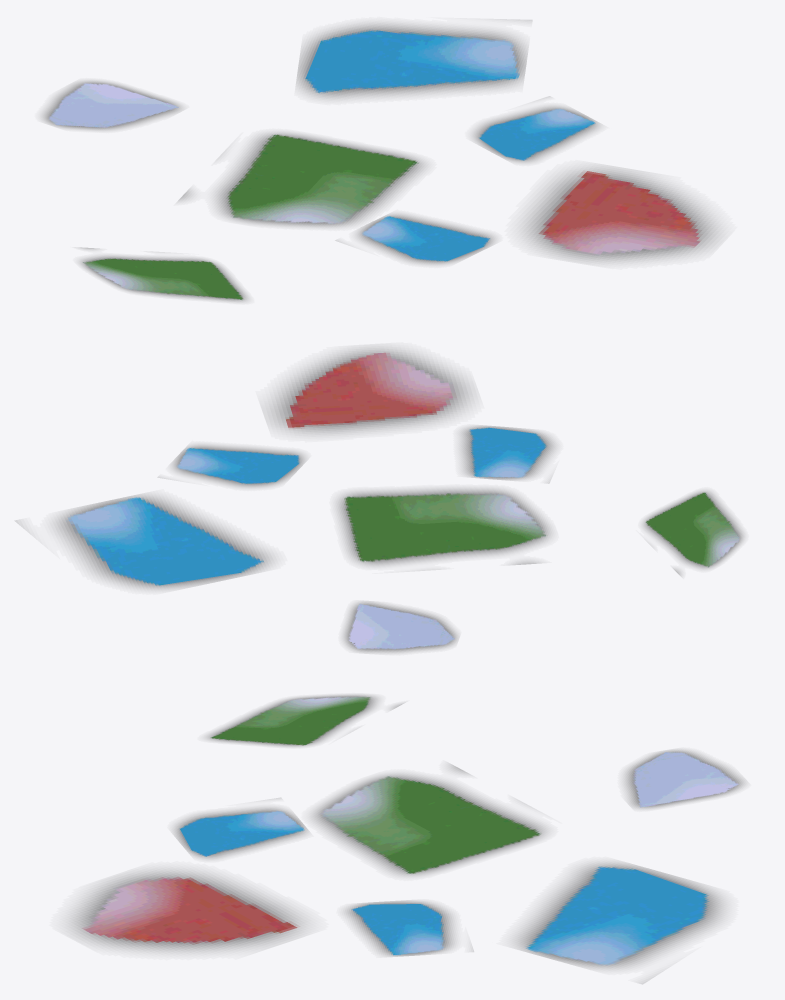
File: glass_shards_2.glb
3 views of the same model, one above another, from view 1: azimuth 30°, elevation 25°; view 2: azimuth 150°, elevation 25°; view 3: azimuth 270°, elevation 25° (orthographic). The views are drawn at different scales.
Visible parts, largest first — view 1: Glass_Shards_2; view 2: Glass_Shards_2; view 3: Glass_Shards_2.
Part boxes in pixels (x1,y1,x2,y2): Glass_Shards_2: (43,24,716,301); Glass_Shards_2: (57,348,743,652); Glass_Shards_2: (72,695,743,968).
Size of the model in its own units: 1.14 by 0.00595 by 1.21.
Materials: 1 (1 with a texture image).
